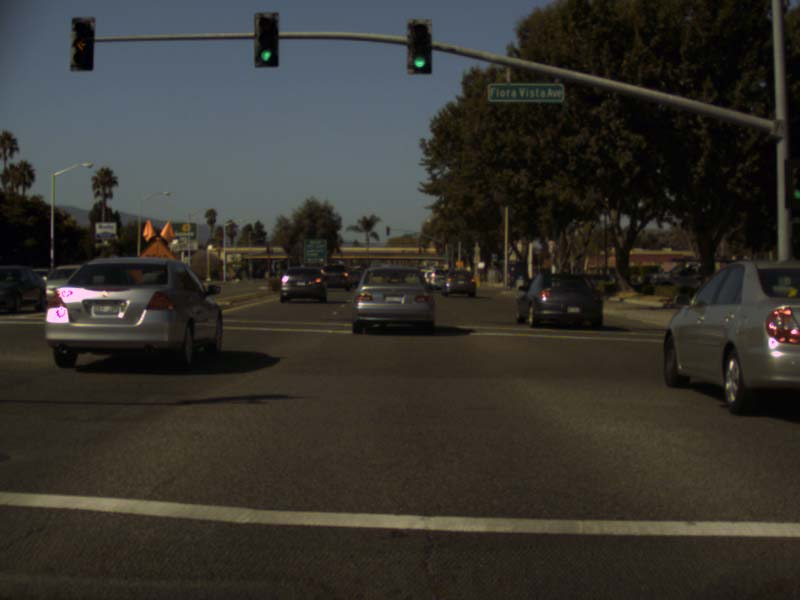Green: (406, 17, 431, 73), (255, 12, 278, 66)
Yellow: (70, 15, 94, 70)
